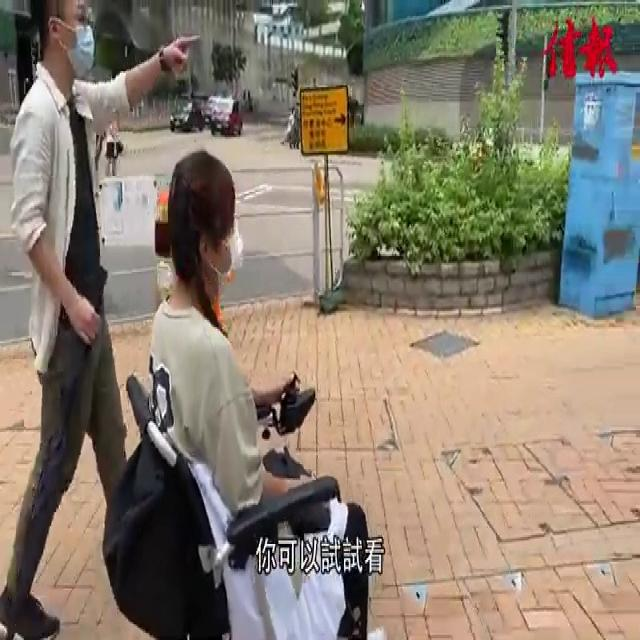wheelchairs: (96, 330, 396, 640)
